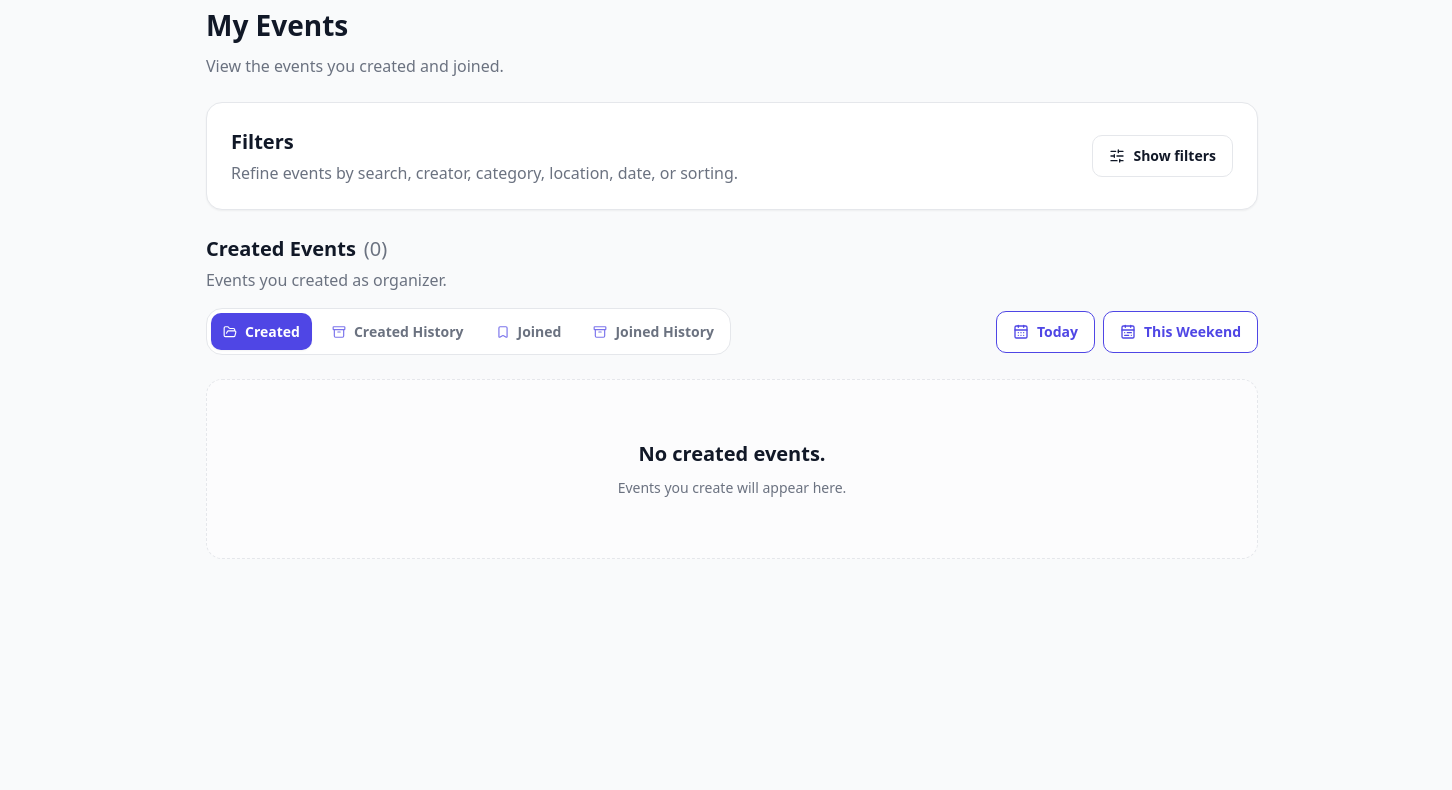
MyEventsPage › updates URL when applying filters
This screenshot has width=1452, height=790.
Expected: the heading "No created events." is shown, [638,439,826,469]
Click the button "Show filters" at (1163, 156), box [1092,135,1233,177]
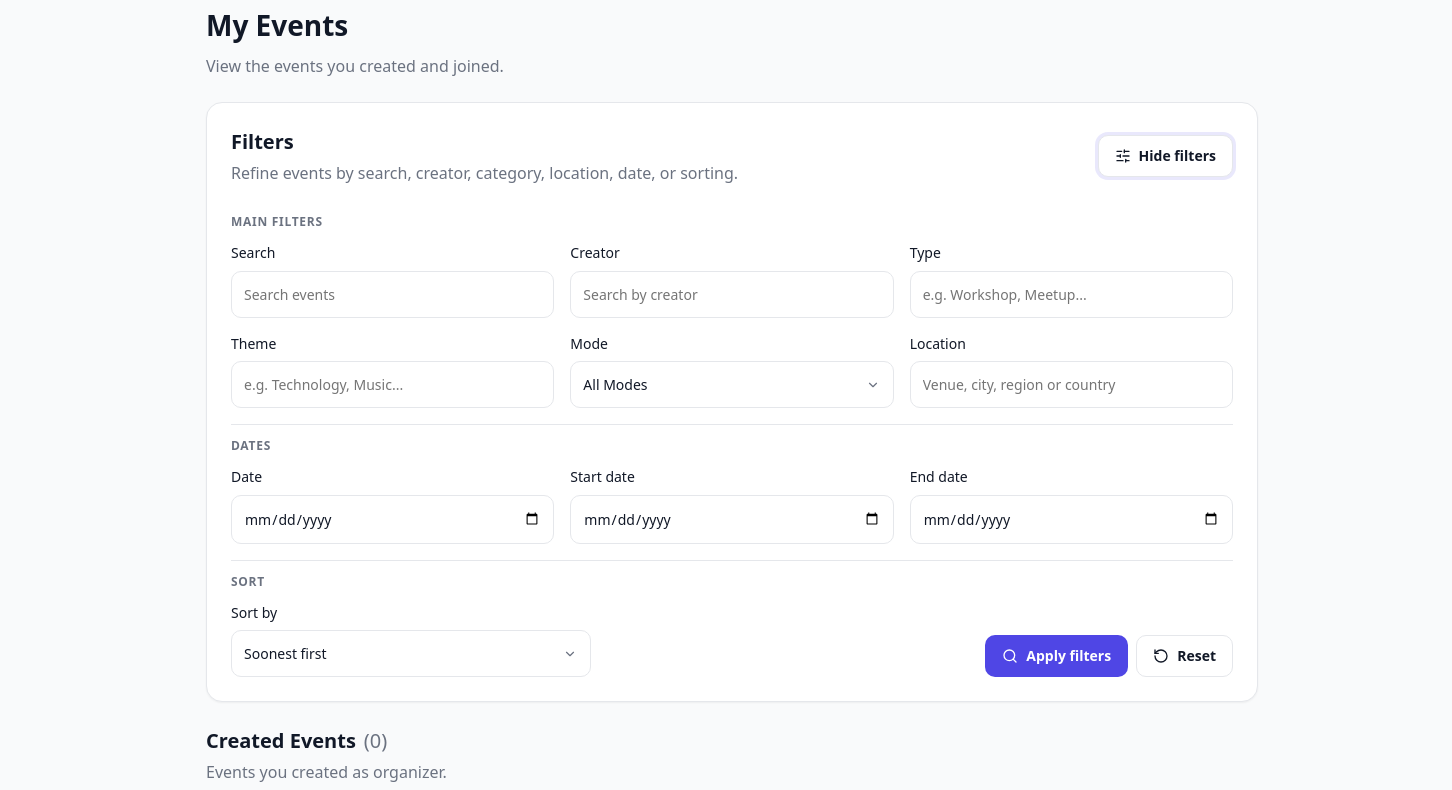
Type "Luffy" into the field with placeholder "Search by creator" at (732, 294), box [570,271,894,318]
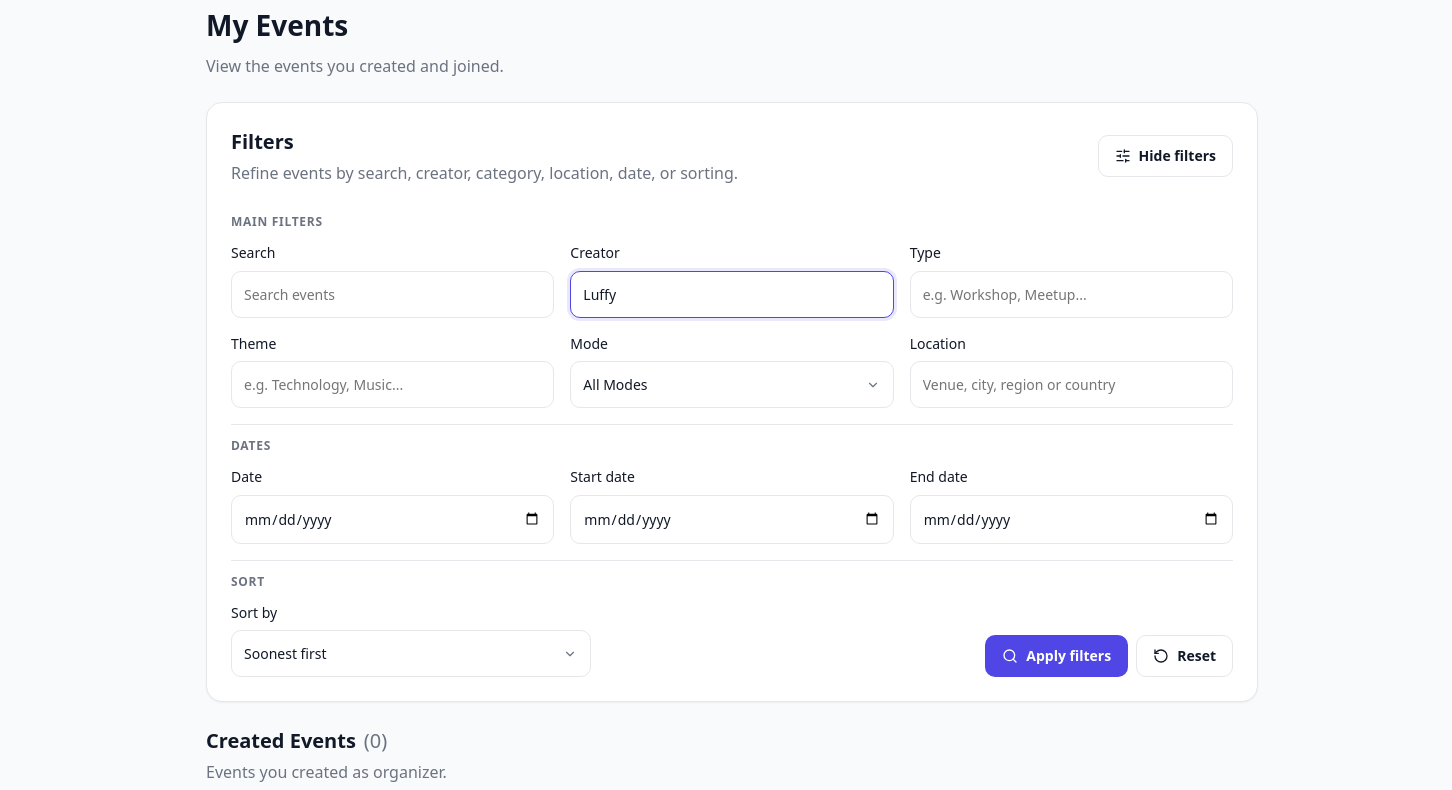
Click the button "Apply filters" at (1057, 656), box [985,635,1128,677]
(page scrolled)
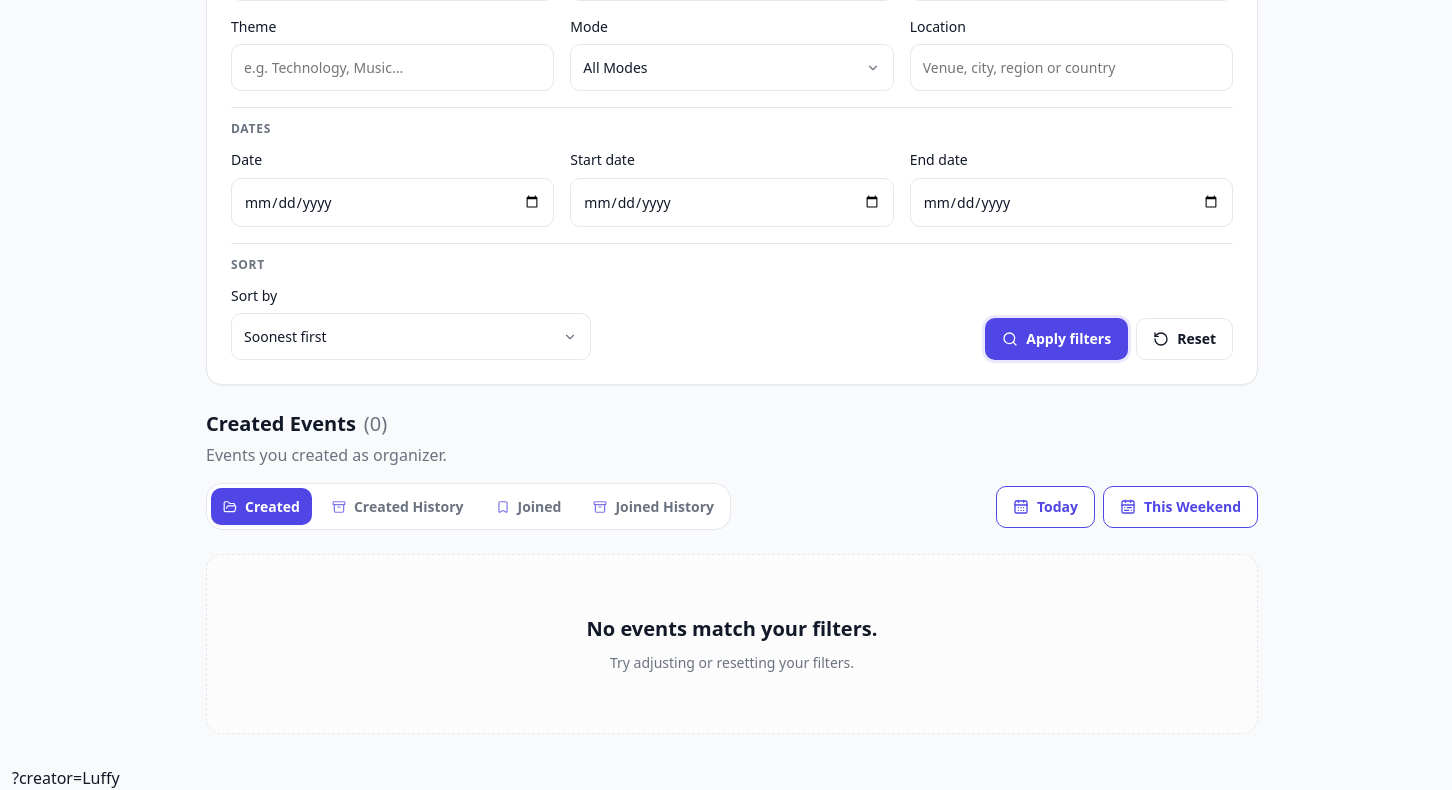
Now the text with test id "location-search" shows "creator=Luffy", box [12,767,120,789]
